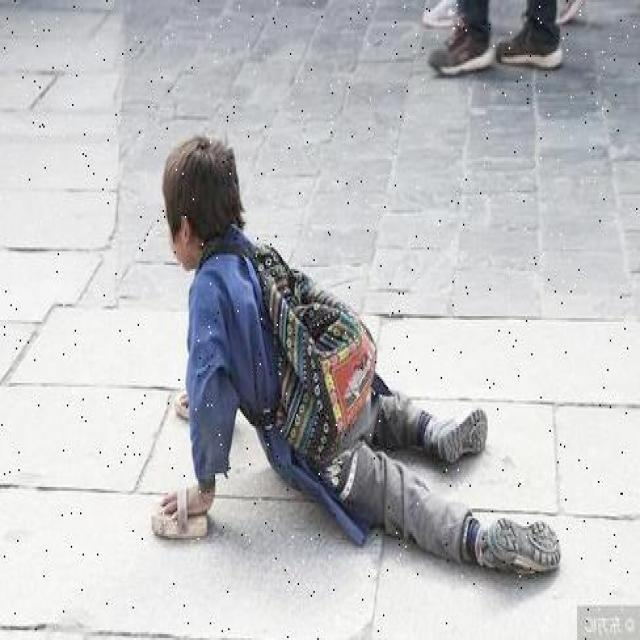fall: (122, 133, 552, 578)
